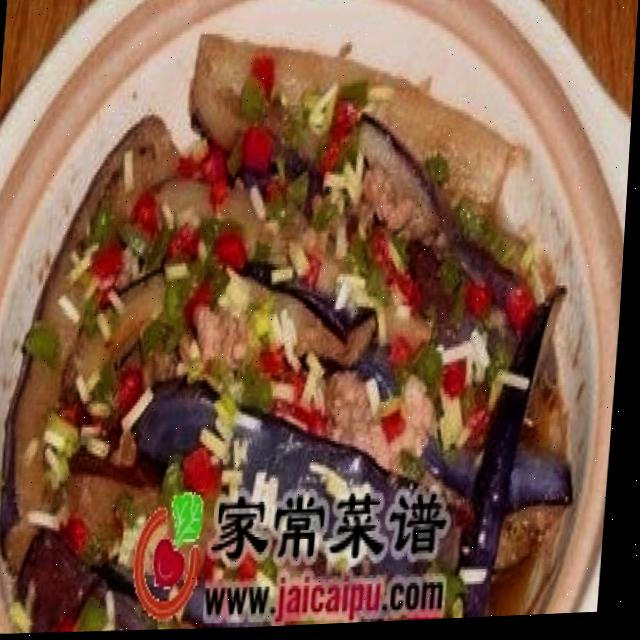鸡蛋料理: (0, 0, 630, 640)
